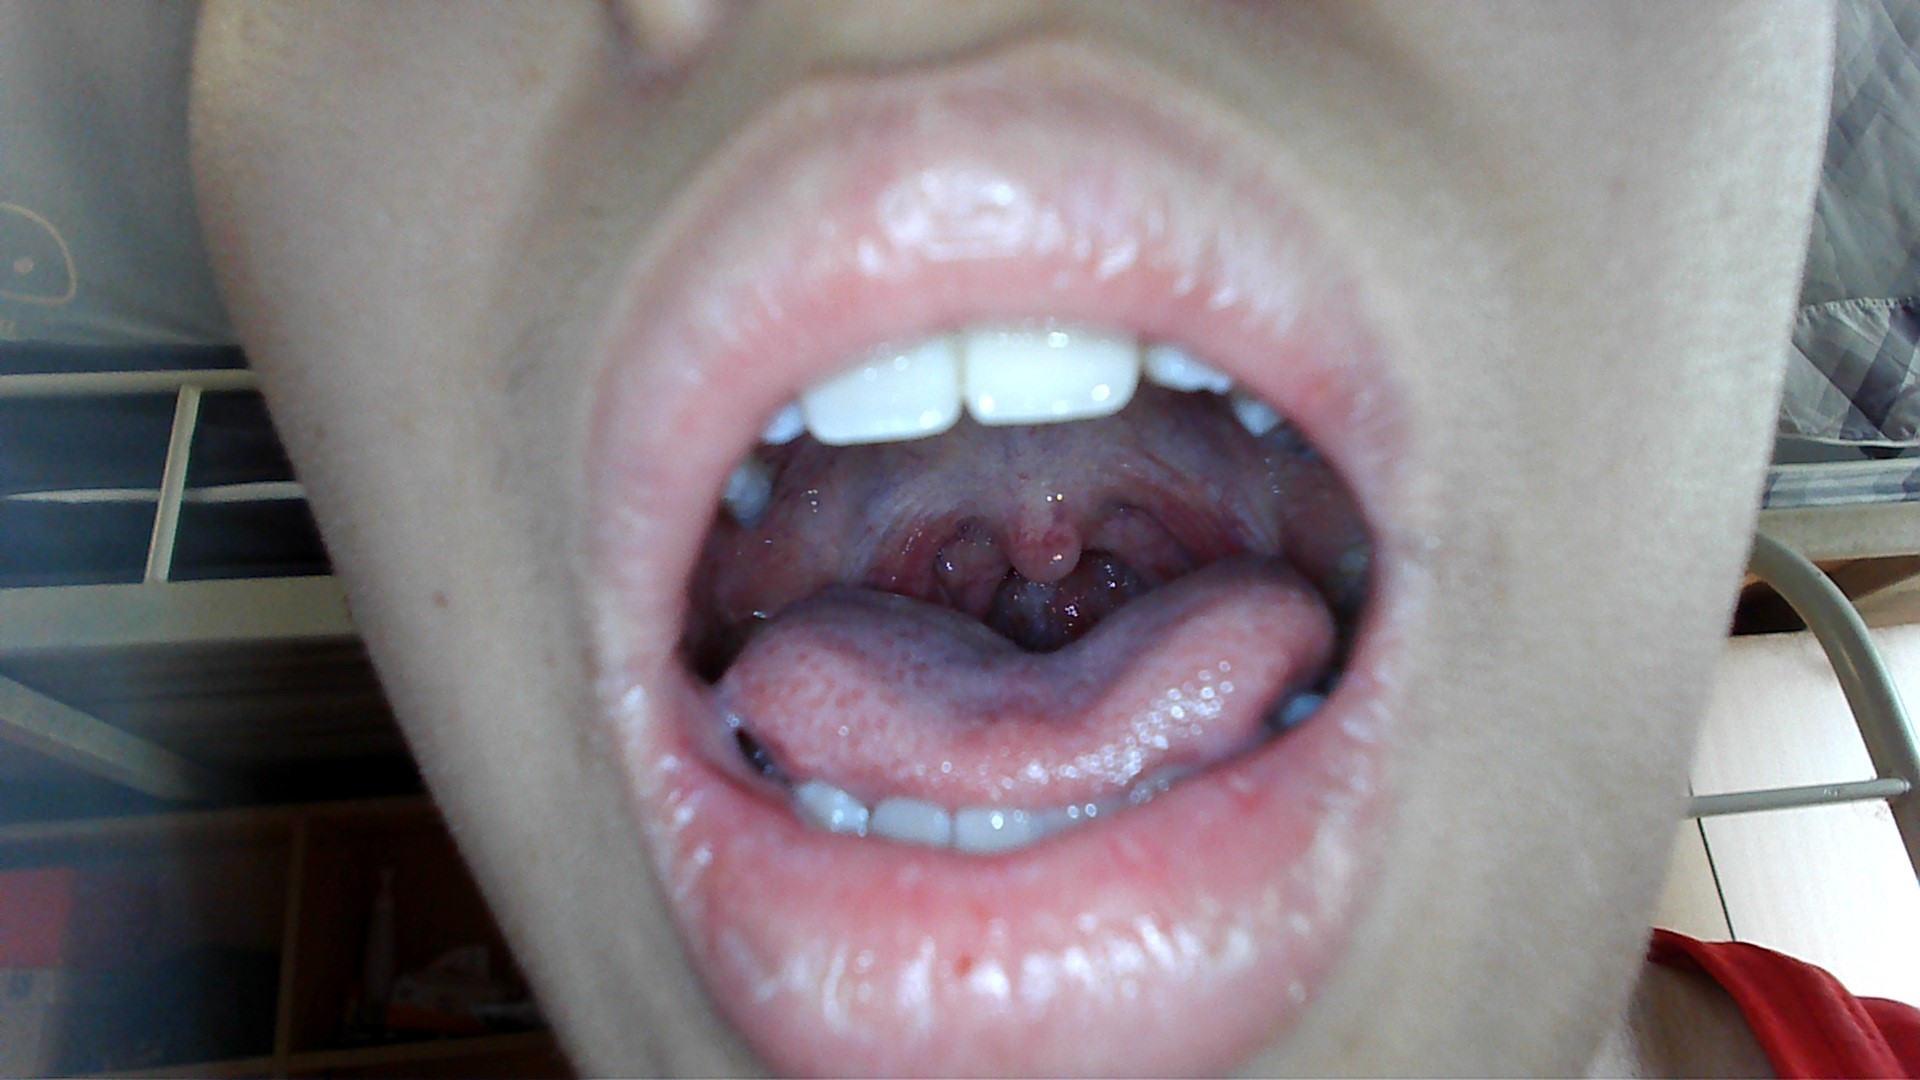throat: (1134, 460, 1242, 568), (862, 492, 963, 600)
